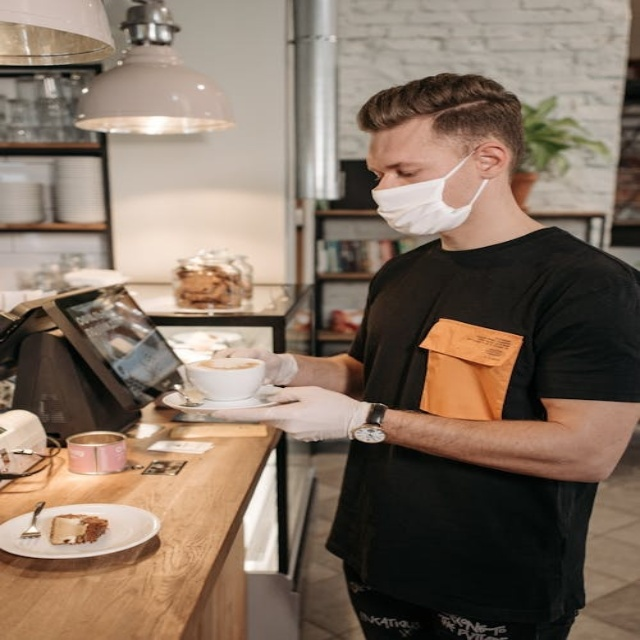Guantes: (210, 385, 373, 442), (215, 347, 300, 386)
Mascara: (370, 148, 489, 234)
Sin_gafas: (367, 151, 454, 182)
